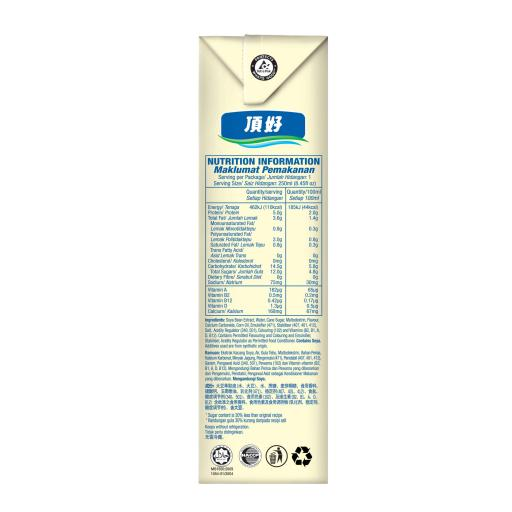drink carton: (196, 30, 330, 488)
